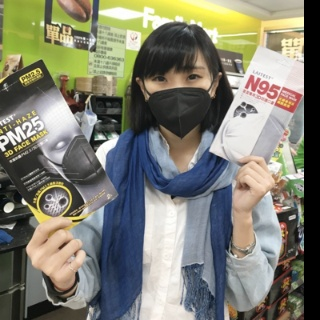with_mask: (143, 64, 213, 138)
